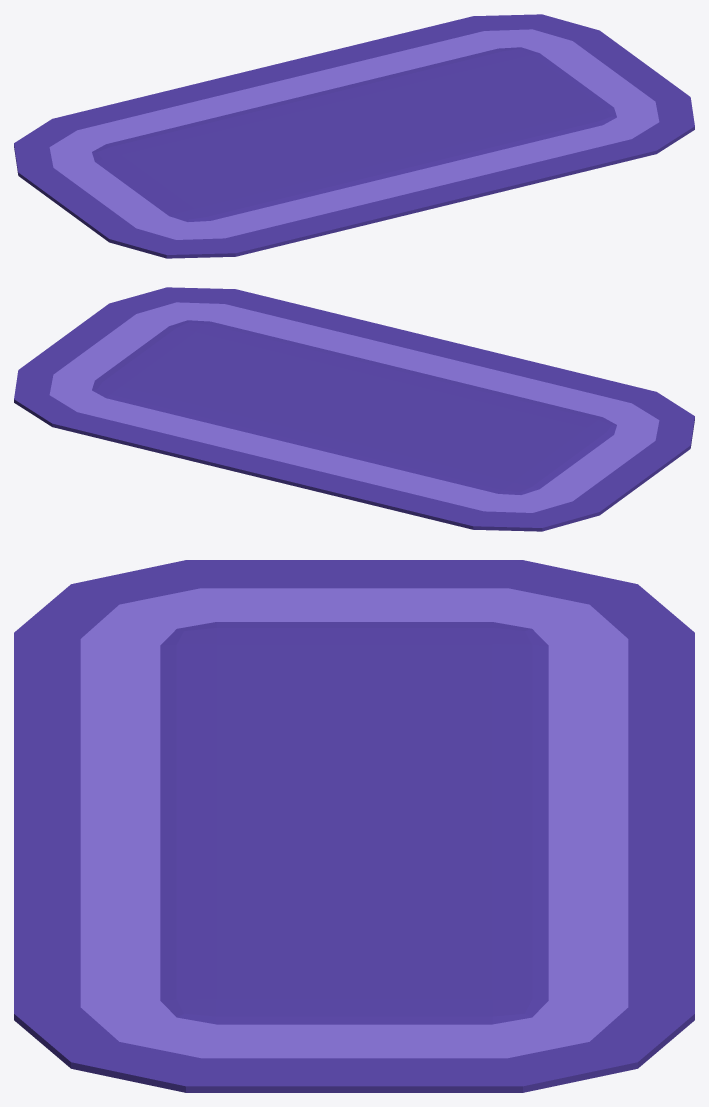
Rendered from Rug_Large.fbx.
The picture shows the model from 3 angles, top to bottom: view 1: azimuth 30°, elevation 25°; view 2: azimuth 150°, elevation 25°; view 3: azimuth 270°, elevation 25°; orthographic projection. The views are drawn at different scales.
Parts seen in each view (by area): view 1: Rug_Large; view 2: Rug_Large; view 3: Rug_Large.
Part boxes in pixels (<box>): Rug_Large: <box>14,14,694,258</box>; Rug_Large: <box>14,287,694,531</box>; Rug_Large: <box>14,560,694,1092</box>.
Bounding box in the file's own units: 898 × 7.39 × 491.
